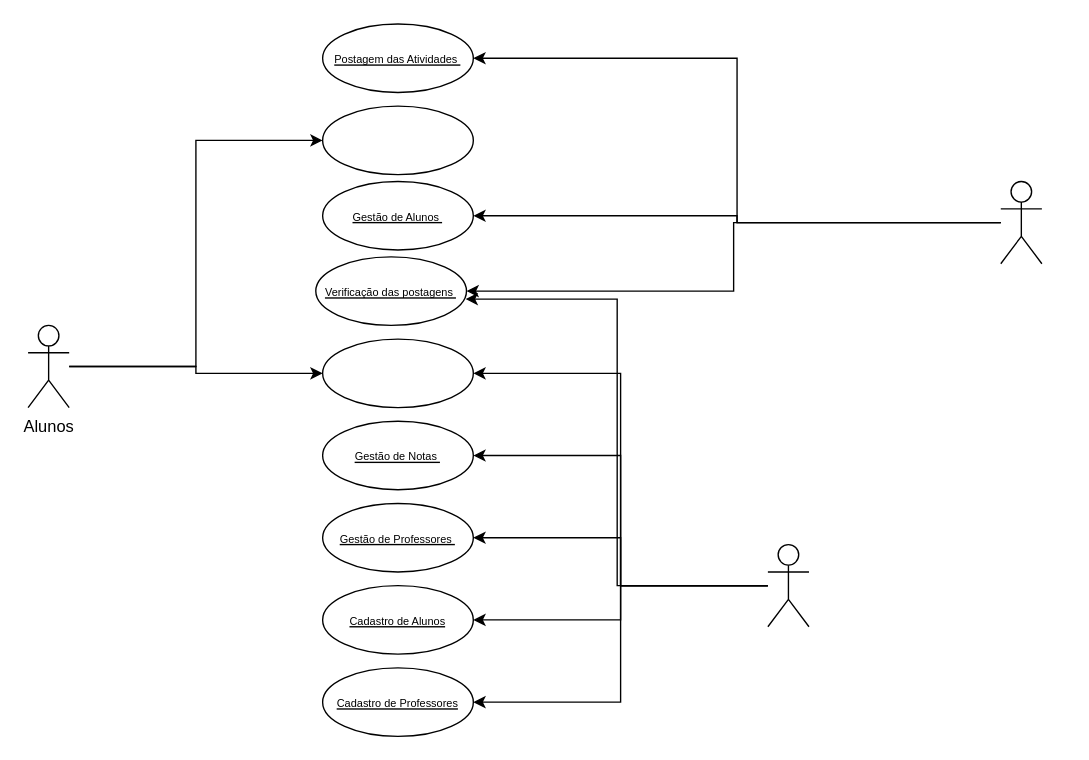
Image size: 1089x760. Some labels were removed from this diagram. Each missing label, with the centre of its shape:
"Feedback das atividades" goes at pixel 397 373.
"Gestores" goes at pixel 788 585.
"Professores" goes at pixel 1020 222.
"Realização de Atividades" goes at pixel 397 140.
